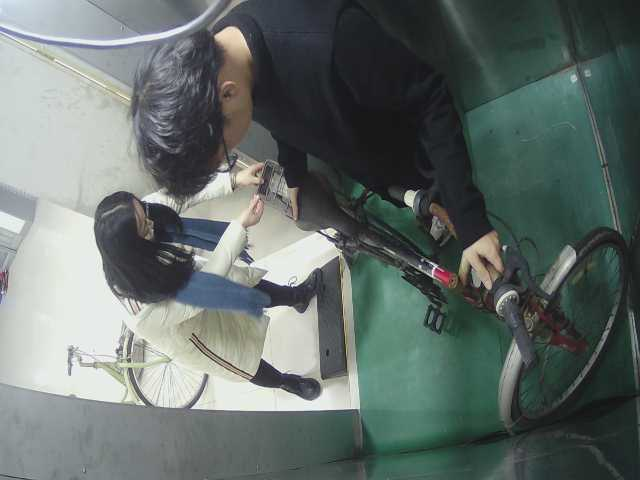bicycle: (254, 161, 623, 430), (55, 312, 213, 414)
person: (136, 1, 521, 286), (97, 190, 348, 407)
